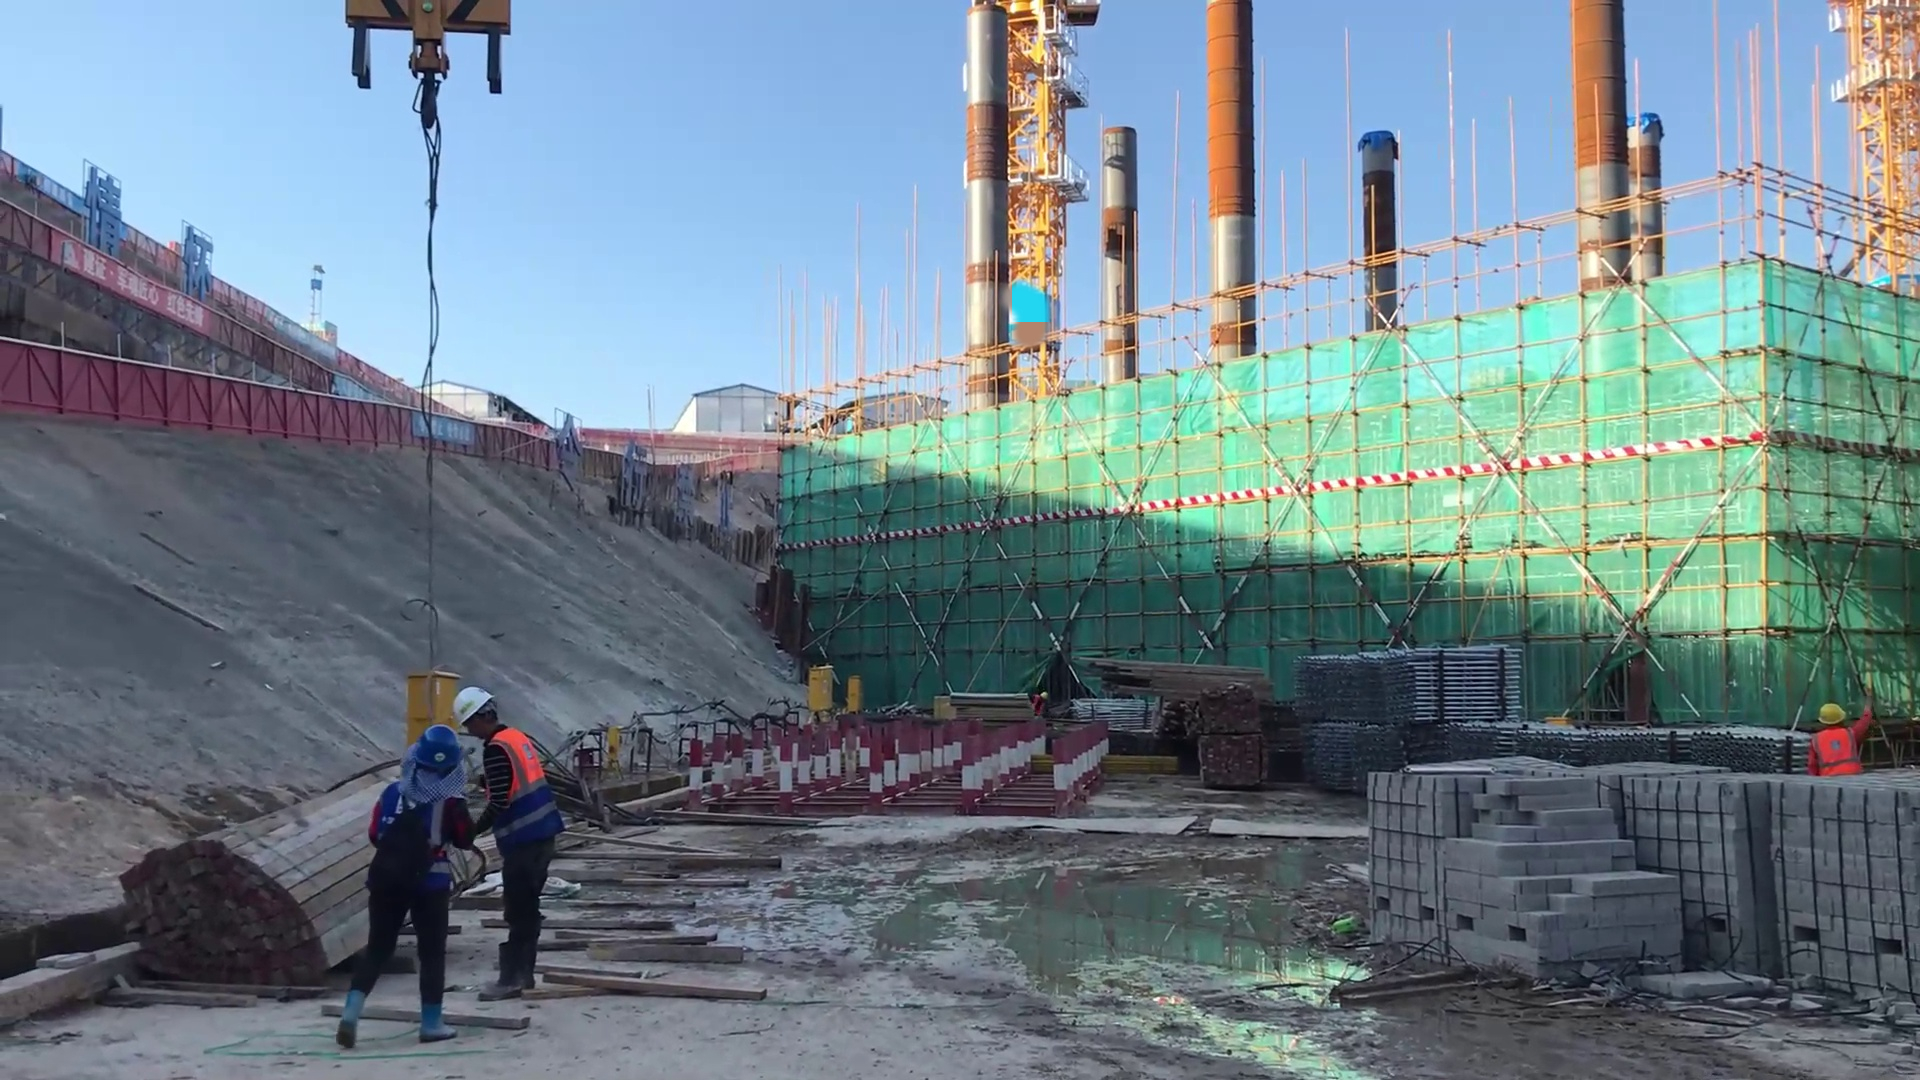brick: (1360, 760, 1908, 1007)
ebox: (406, 664, 458, 739), (797, 657, 834, 711), (840, 672, 865, 716)
fence: (1, 337, 277, 434), (278, 389, 415, 456)
helmet: (399, 718, 465, 773), (454, 685, 497, 736), (1813, 698, 1847, 728), (1036, 687, 1050, 705)
hook: (345, 1, 503, 94)
person: (340, 714, 457, 1052), (443, 678, 560, 1006), (1802, 698, 1861, 776)
scaffold: (1291, 648, 1517, 723), (1308, 719, 1389, 793)
vest: (484, 737, 543, 797), (1813, 731, 1851, 769)
wood: (112, 800, 337, 1002), (1074, 653, 1261, 706)
